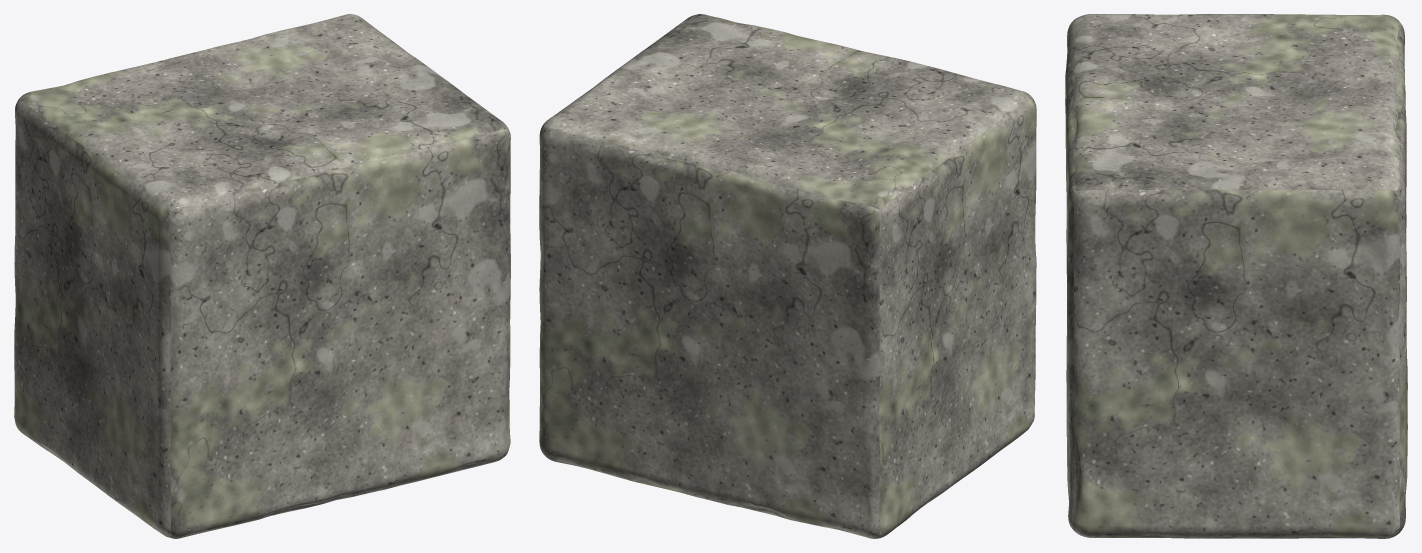
File: stone_wall_block_small.glb
The picture shows the model from 3 angles, left to right: view 1: azimuth 30°, elevation 25°; view 2: azimuth 150°, elevation 25°; view 3: azimuth 270°, elevation 25°; orthographic projection. The views are drawn at different scales.
Parts seen in each view (by area): view 1: stone_wall_block_small; view 2: stone_wall_block_small; view 3: stone_wall_block_small.
Boxes of the visible parts, <box> form: stone_wall_block_small: <box>14,14,510,538</box>; stone_wall_block_small: <box>539,14,1036,538</box>; stone_wall_block_small: <box>1065,14,1407,538</box>.
Bounding box in the file's own units: 0.7497 × 0.7032 × 0.6044.
1 material, 1 textured.
